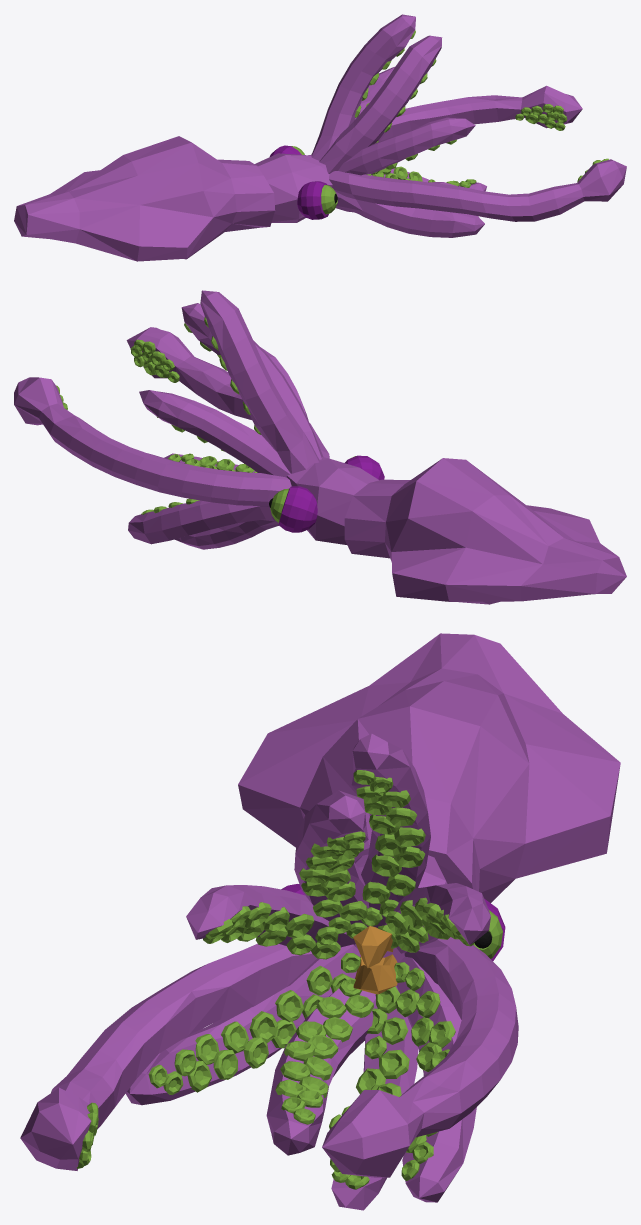
The picture shows the model from 3 angles, top to bottom: view 1: azimuth 30°, elevation 25°; view 2: azimuth 150°, elevation 25°; view 3: azimuth 270°, elevation 25°; orthographic projection. The views are drawn at different scales.
Visible parts, largest first — view 1: node_MeshObject-1039052416-PolyPaper9, node_MeshObject-1557772480-PolyPaper9, node_MeshObject-2076492544-PolyPaper9, node_MeshObject-1702979264-PolyPaper23; view 2: node_MeshObject-1039052416-PolyPaper9, node_MeshObject-1557772480-PolyPaper9, node_MeshObject-2076492544-PolyPaper9, node_MeshObject-1702979264-PolyPaper23; view 3: node_MeshObject-1039052416-PolyPaper9, node_MeshObject-1557772480-PolyPaper9, node_MeshObject-1702979264-PolyPaper23, node_MeshObject-2076492544-PolyPaper9.
Boxes of the visible parts, box(x1,y1,x2,y2) form: node_MeshObject-1039052416-PolyPaper9: box(14, 48, 626, 261); node_MeshObject-1557772480-PolyPaper9: box(311, 14, 608, 203); node_MeshObject-2076492544-PolyPaper9: box(291, 35, 567, 223); node_MeshObject-1702979264-PolyPaper23: box(335, 89, 484, 237); node_MeshObject-1039052416-PolyPaper9: box(14, 317, 626, 604); node_MeshObject-1557772480-PolyPaper9: box(130, 290, 319, 513); node_MeshObject-2076492544-PolyPaper9: box(56, 303, 355, 549); node_MeshObject-1702979264-PolyPaper23: box(168, 453, 273, 507); node_MeshObject-1039052416-PolyPaper9: box(20, 633, 620, 1202); node_MeshObject-1557772480-PolyPaper9: box(82, 733, 490, 1189); node_MeshObject-1702979264-PolyPaper23: box(125, 856, 491, 1124); node_MeshObject-2076492544-PolyPaper9: box(76, 790, 502, 1210).
Size of the model in its own units: 2.16 by 0.8575 by 1.05.
